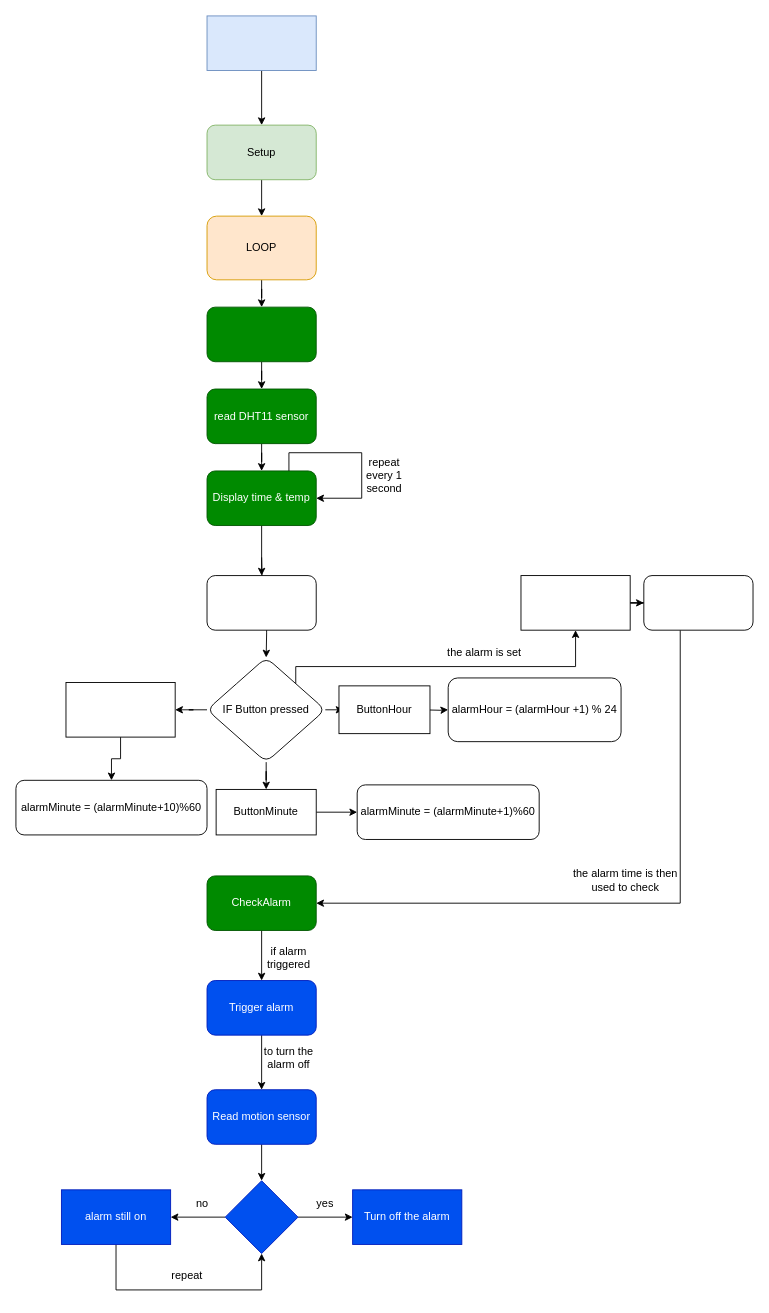
This 769x1313 diagram has some shape labels left out. Each missing label, with the centre of its shape:
AlarmSet: (575,602)
alarmSet=true: (698,602)
ButtontenMinute: (120,709)
IF motion detected: (261,1217)
Start the program: (261,43)
Update alarm time: (261,602)
Update time from NTP: (261,334)
